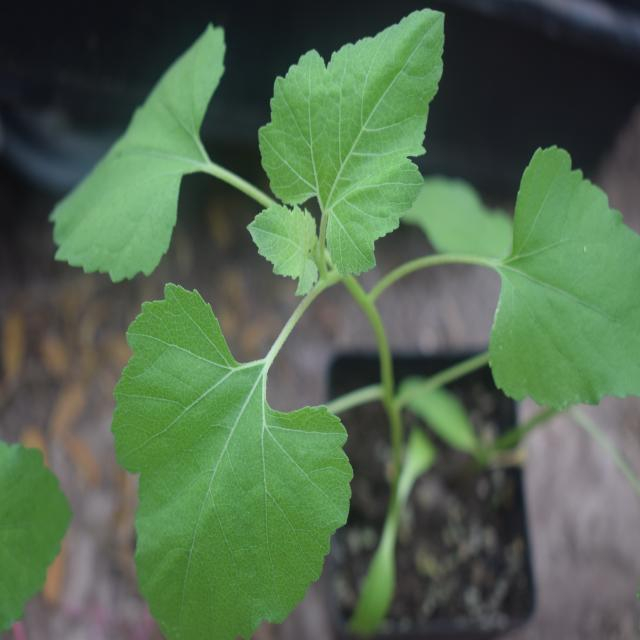cocklebur: (63, 52, 621, 586)
